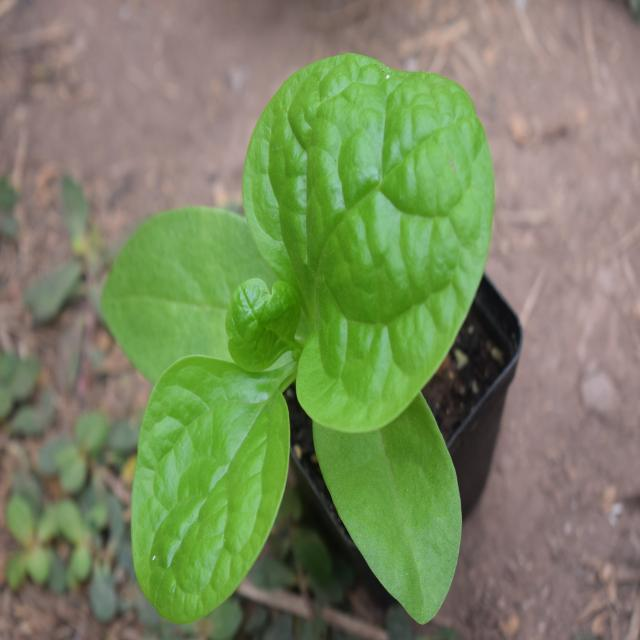Ceylon spinach: (117, 34, 482, 608)
